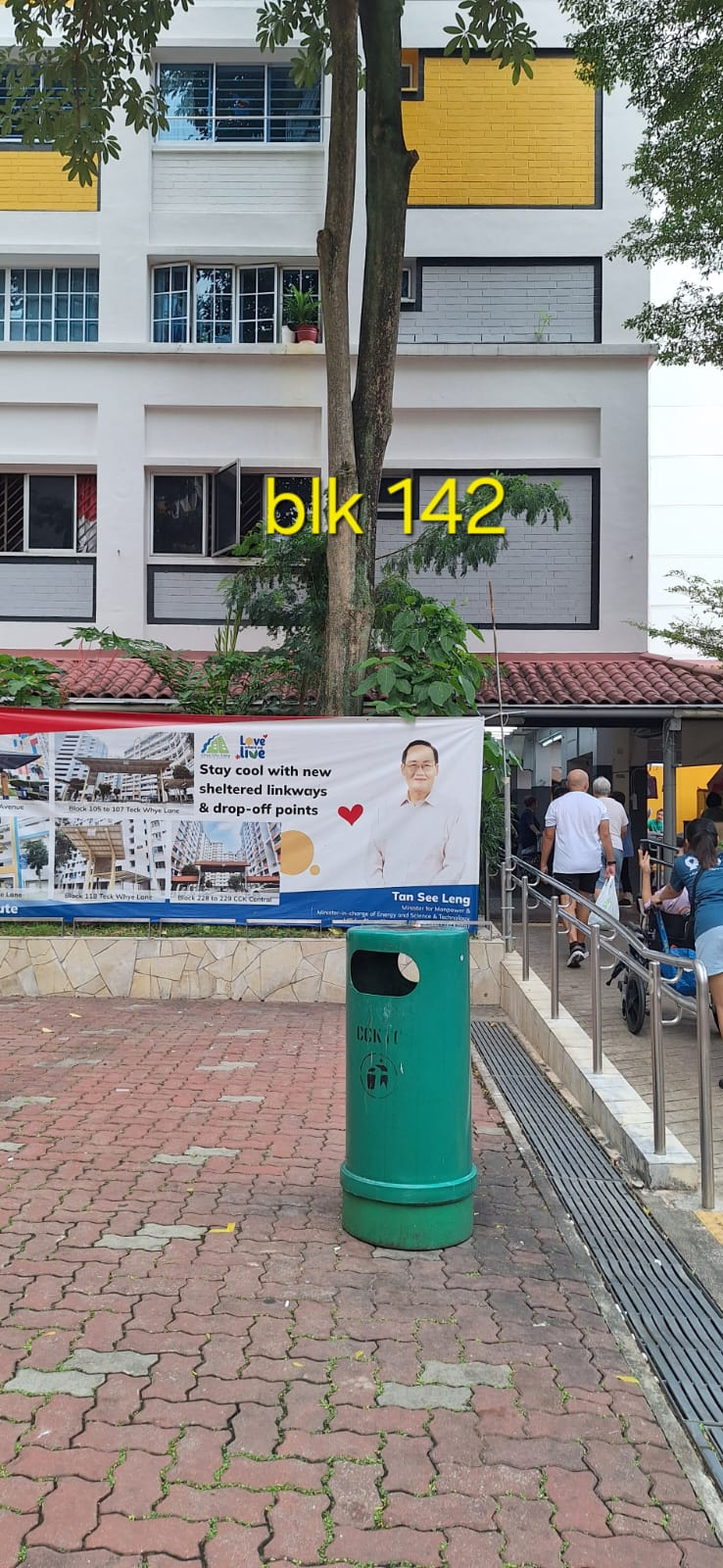bin_empty: (340, 925, 476, 1249)
